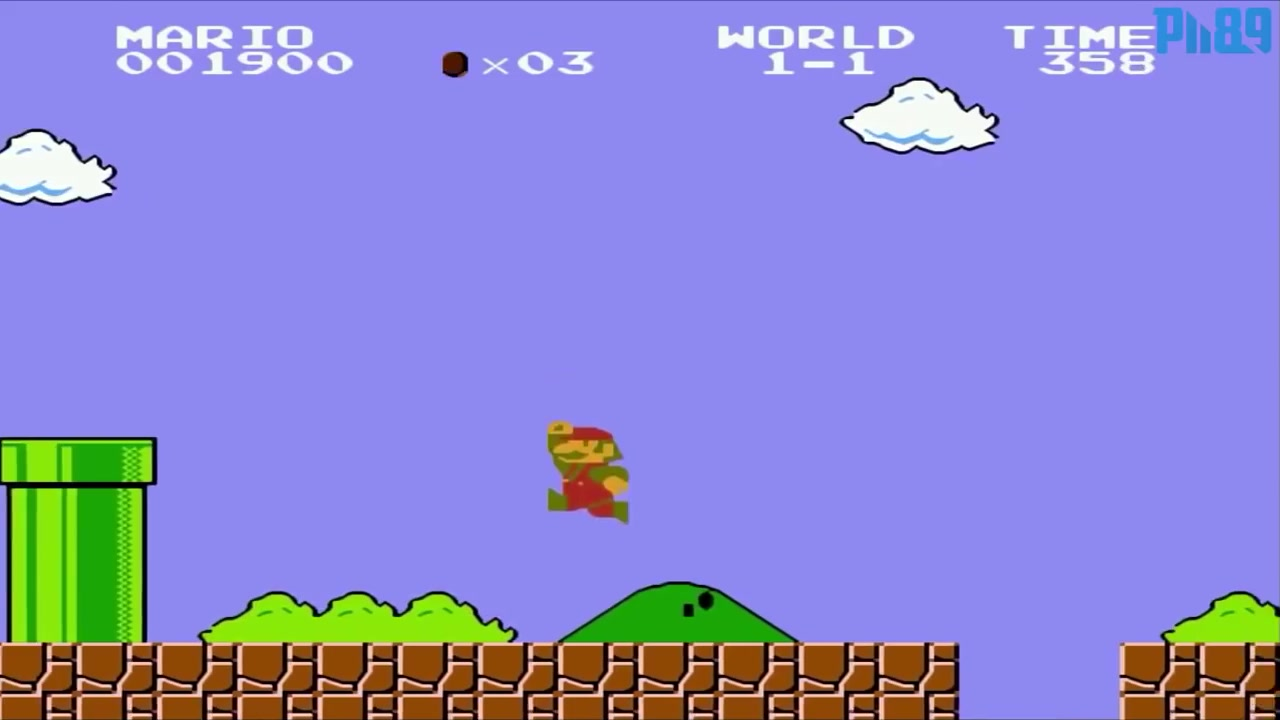mario: (530, 415, 638, 527)
